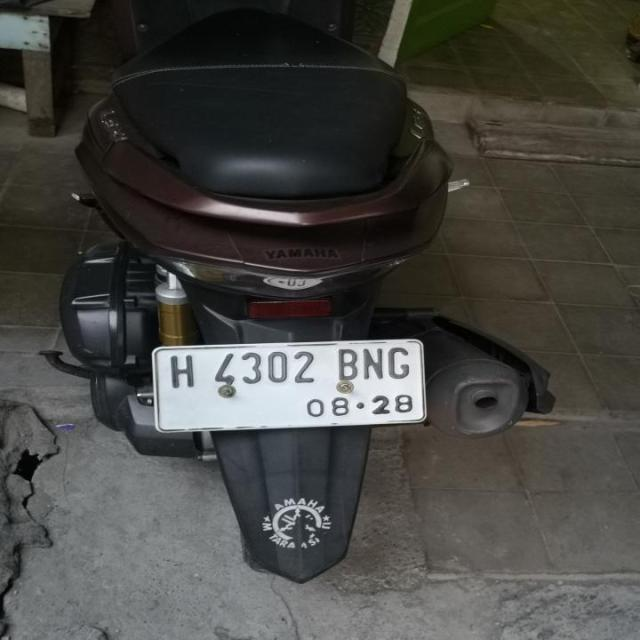License Plate: (146, 335, 429, 436)
